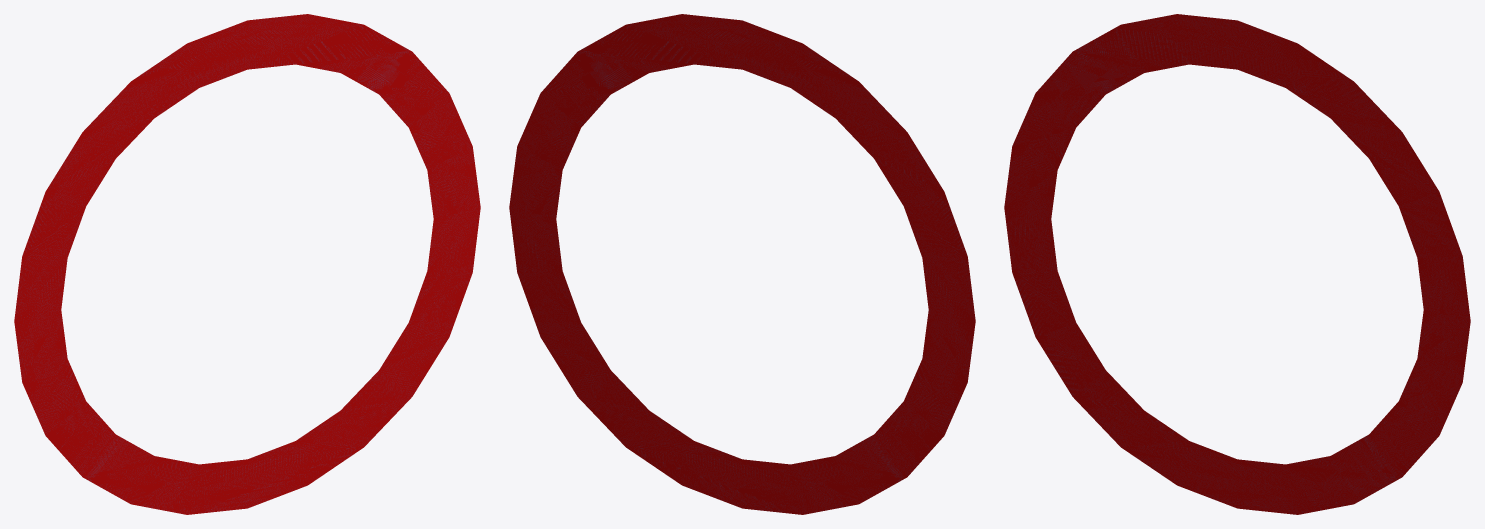
Rendered from original-64.obj.
3 views of the same model, side by side, from view 1: azimuth 30°, elevation 25°; view 2: azimuth 150°, elevation 25°; view 3: azimuth 330°, elevation 25° (orthographic).
Parts seen in each view (by area): view 1: part_1_2/part_1/mesh1/mesh1-geometry/material_4/component_1#mesh; view 2: part_1_2/part_1/mesh1/mesh1-geometry/material_4/component_1#mesh; view 3: part_1_2/part_1/mesh1/mesh1-geometry/material_4/component_1#mesh.
Boxes of the visible parts, box(x1,y1,x2,y2) form: part_1_2/part_1/mesh1/mesh1-geometry/material_4/component_1#mesh: box(14, 14, 480, 514); part_1_2/part_1/mesh1/mesh1-geometry/material_4/component_1#mesh: box(509, 14, 975, 514); part_1_2/part_1/mesh1/mesh1-geometry/material_4/component_1#mesh: box(1004, 14, 1470, 514).
Bounding box in the file's own units: 0.0545 × 0.0545 × 0.
